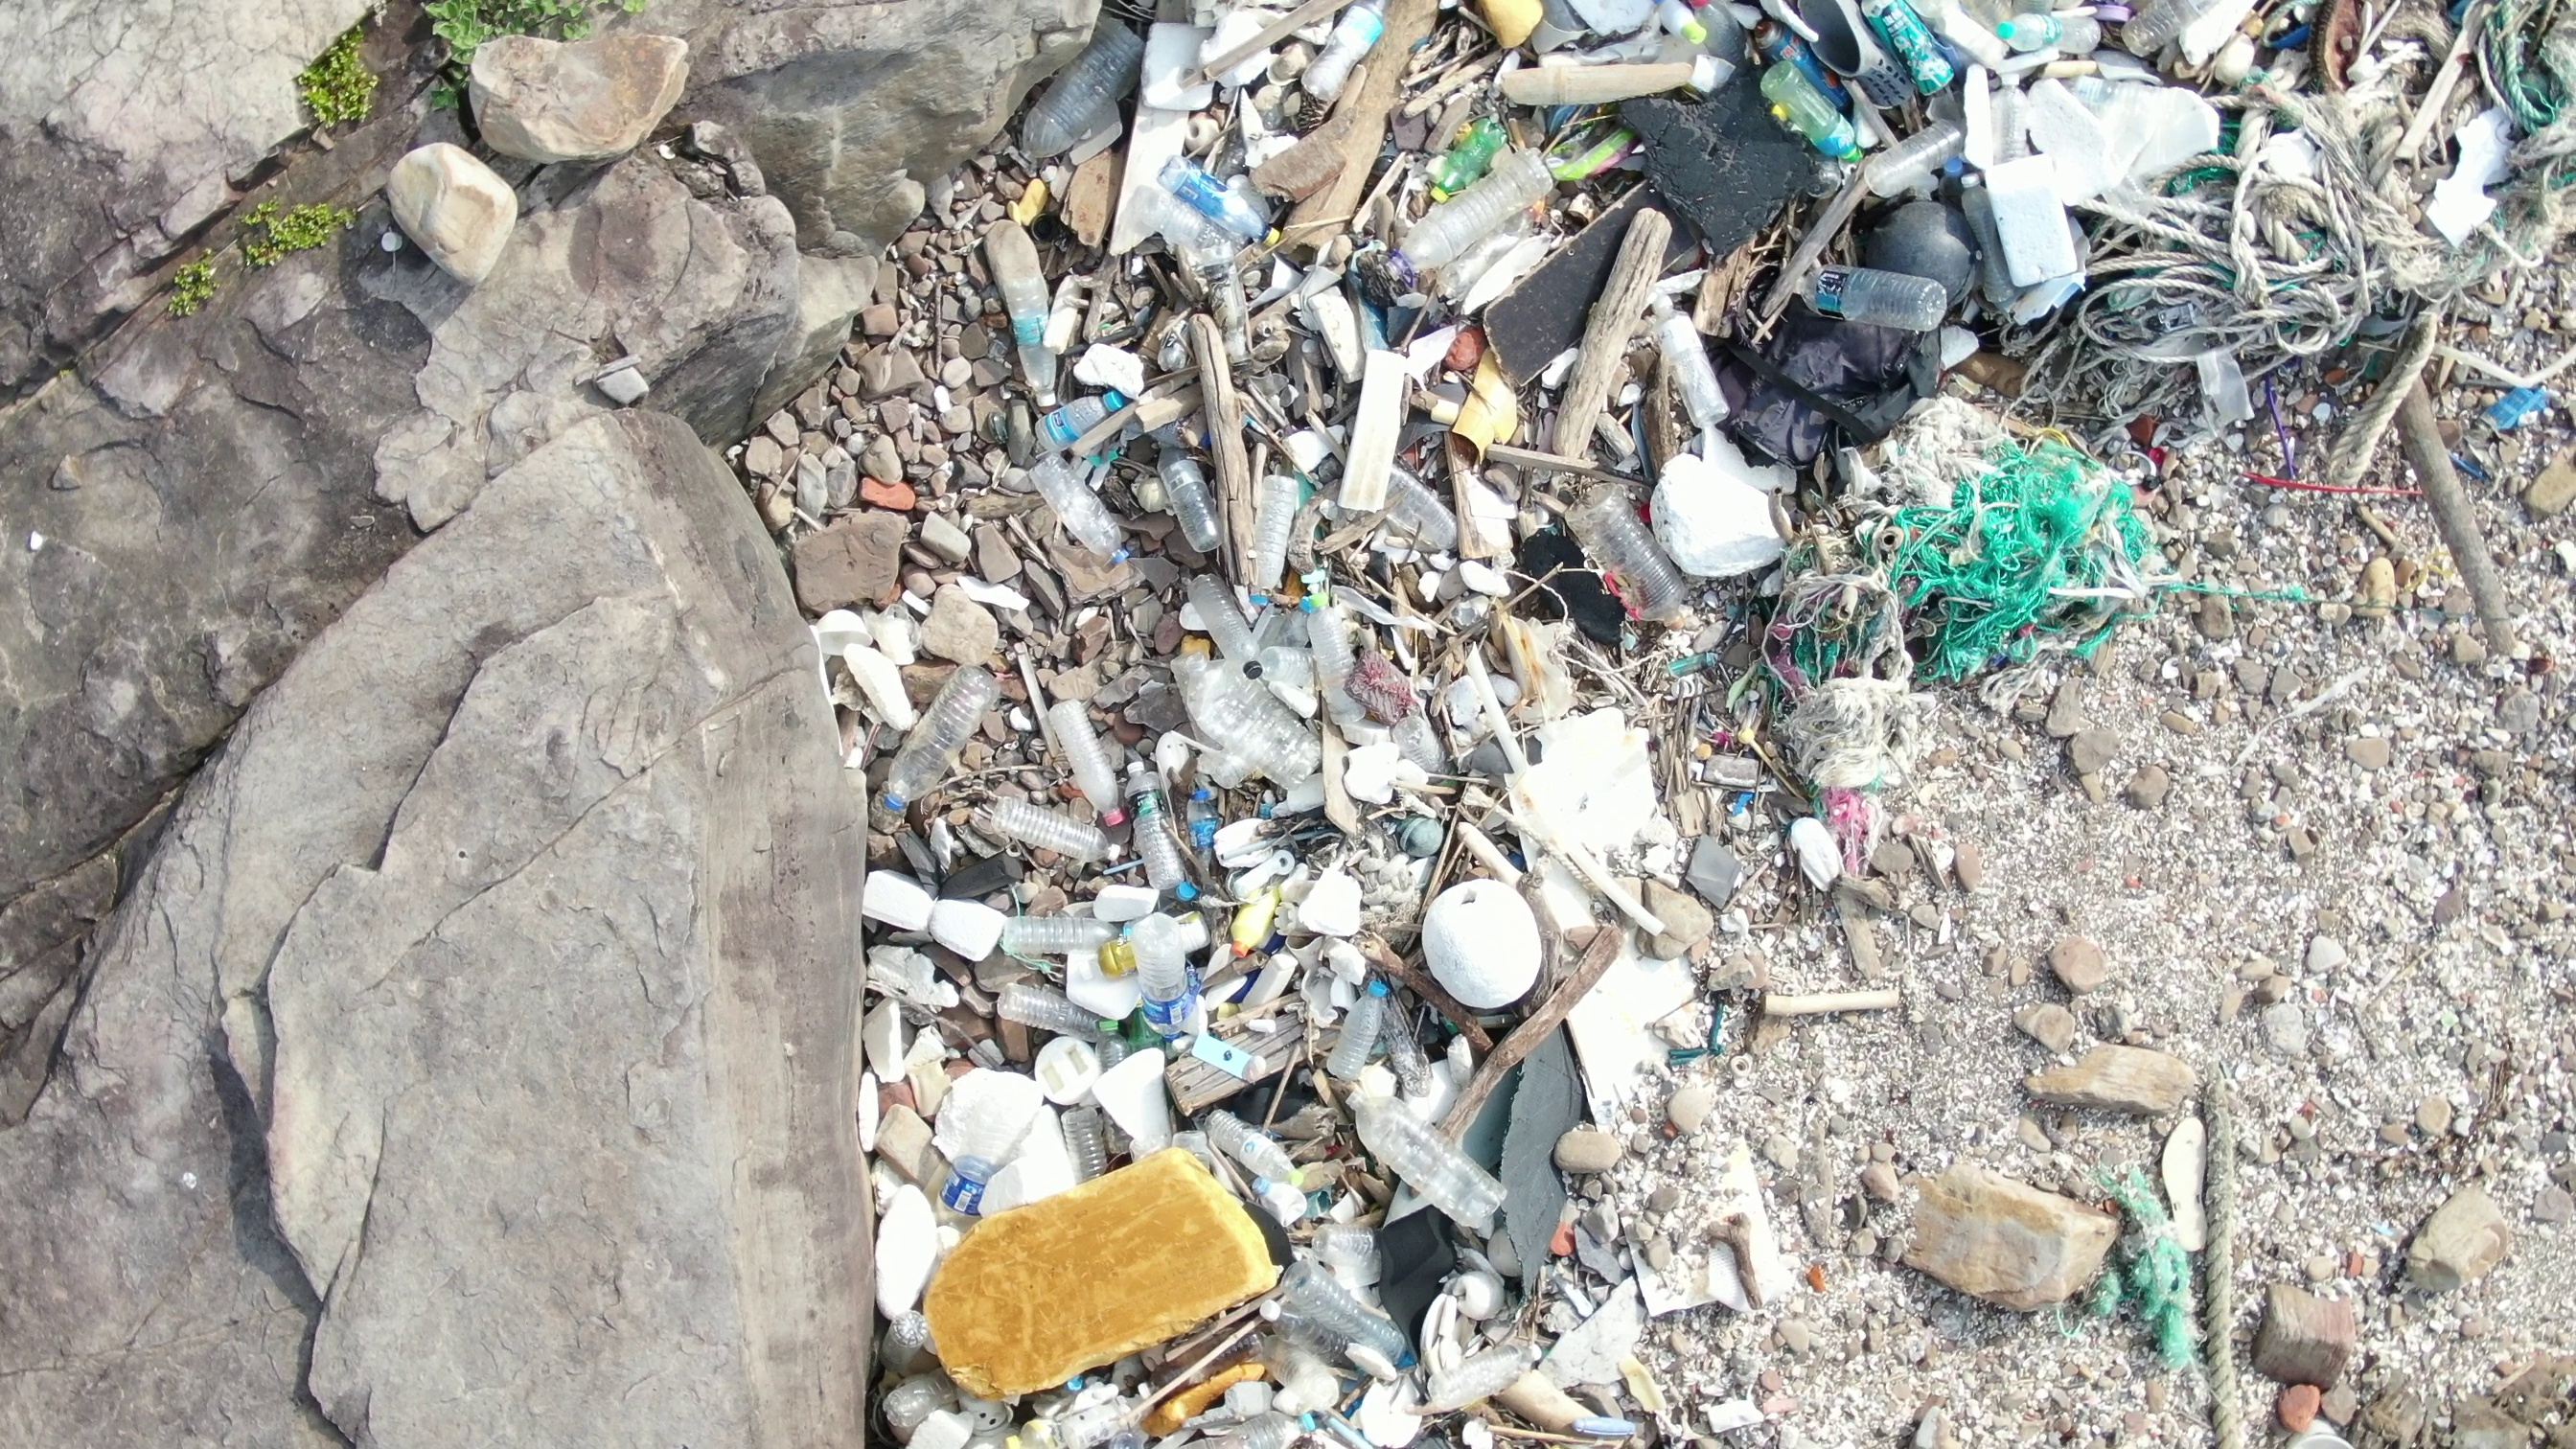bottle: (1380, 156, 1580, 285), (1343, 1085, 1514, 1228), (1568, 481, 1711, 648), (1180, 656, 1330, 807), (872, 663, 998, 832), (1003, 23, 1152, 165), (1281, 1260, 1428, 1382), (902, 1138, 1016, 1290), (1801, 242, 1957, 340), (977, 791, 1134, 885), (1024, 453, 1134, 577), (1750, 55, 1870, 163), (987, 244, 1069, 403), (985, 973, 1136, 1056), (1046, 688, 1127, 832), (1127, 906, 1201, 1056), (1178, 573, 1263, 701), (1159, 154, 1270, 248), (1856, 4, 1964, 99), (1364, 455, 1461, 557), (1323, 973, 1403, 1095), (1295, 7, 1376, 122), (1026, 387, 1155, 455), (1155, 435, 1223, 556), (1430, 106, 1511, 205), (1973, 14, 2114, 62), (996, 913, 1127, 964), (1054, 1102, 1122, 1191), (1180, 775, 1228, 899), (1253, 460, 1293, 600), (1132, 786, 1180, 899), (2125, 2, 2204, 67), (876, 1307, 927, 1376), (1658, 7, 1718, 64)
garbage: (985, 4, 2569, 674), (858, 692, 1967, 1449), (2121, 1047, 2259, 1449)
